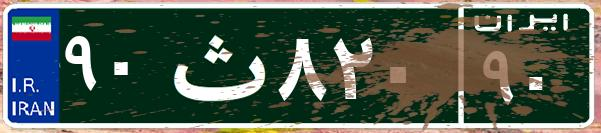0: (385, 28, 445, 110), (110, 28, 158, 105), (525, 38, 570, 115)
2: (330, 28, 385, 110)
8: (273, 28, 330, 110)
9: (57, 26, 110, 107), (475, 38, 525, 113)
ث: (158, 15, 273, 115)
